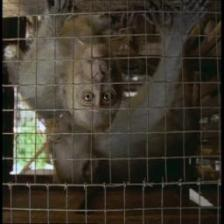monkey: (74, 38, 122, 126), (47, 112, 85, 183)
